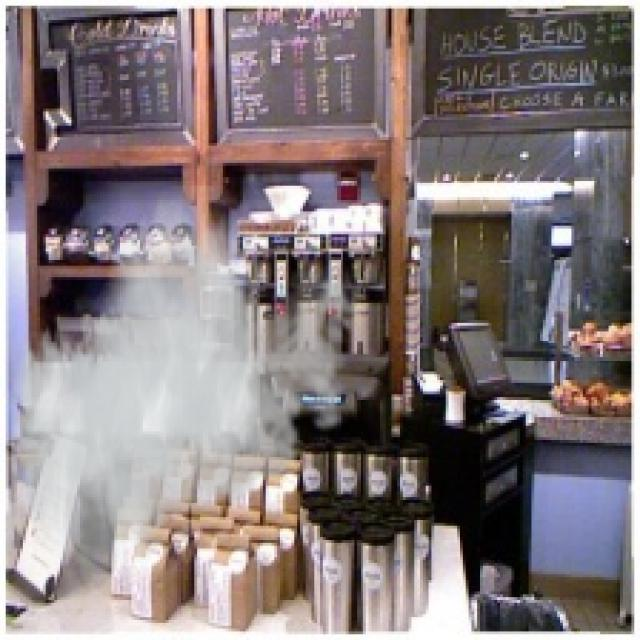smoke: (11, 186, 366, 608)
